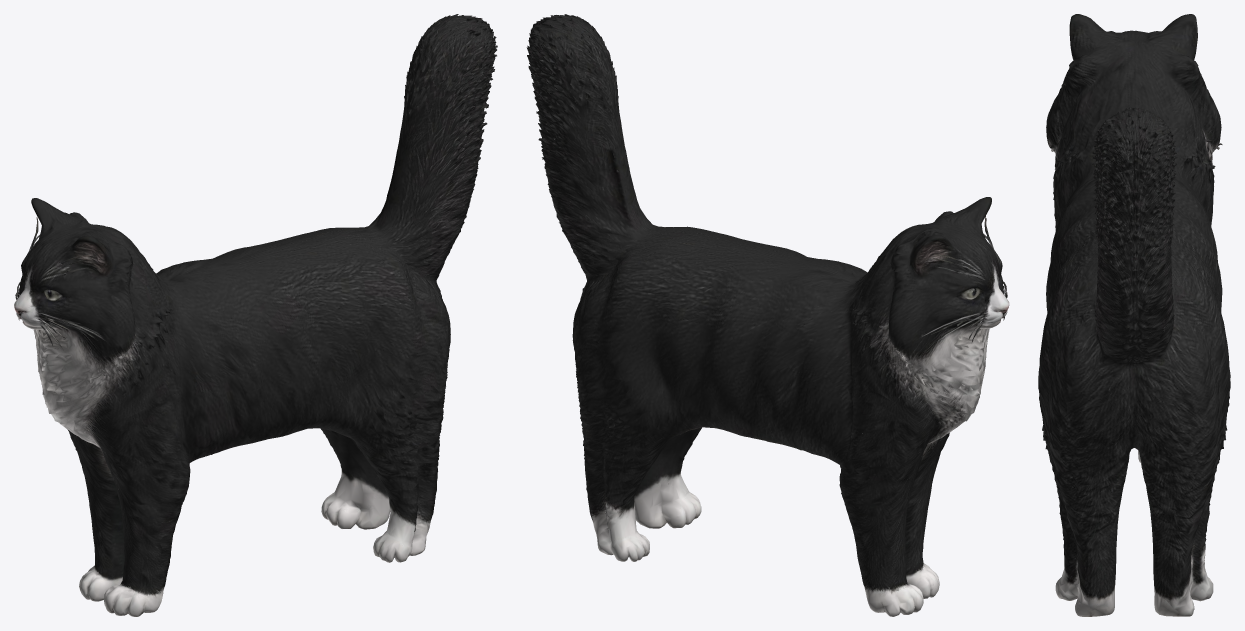
File: HENRINOIR.glb
3 renders of one model, left to right at view 1: azimuth 30°, elevation 25°; view 2: azimuth 150°, elevation 25°; view 3: azimuth 270°, elevation 25°, orthographic. The views are drawn at different scales.
Parts seen in each view (by area): view 1: tripo_node_b55bda4c-caee-4173-ba8a-311d0709f423; view 2: tripo_node_b55bda4c-caee-4173-ba8a-311d0709f423; view 3: tripo_node_b55bda4c-caee-4173-ba8a-311d0709f423.
Boxes of the visible parts, x1,y1,x2,y2 form: tripo_node_b55bda4c-caee-4173-ba8a-311d0709f423: (14,14,497,616); tripo_node_b55bda4c-caee-4173-ba8a-311d0709f423: (526,14,1009,616); tripo_node_b55bda4c-caee-4173-ba8a-311d0709f423: (1038,14,1230,616).
Size of the model in its own units: 0.9911 by 0.9998 by 0.3224.
Materials: 1 (1 with a texture image).
